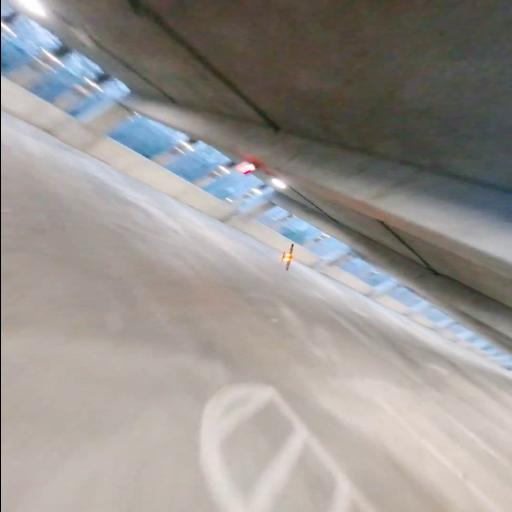uav: (278, 242, 298, 276)
